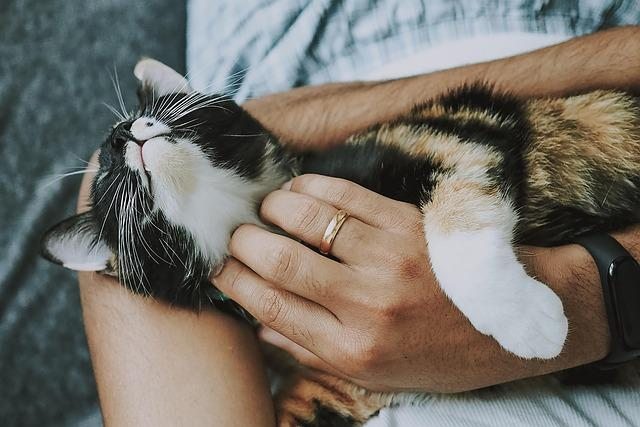Non_Gorille: (11, 0, 640, 427)
